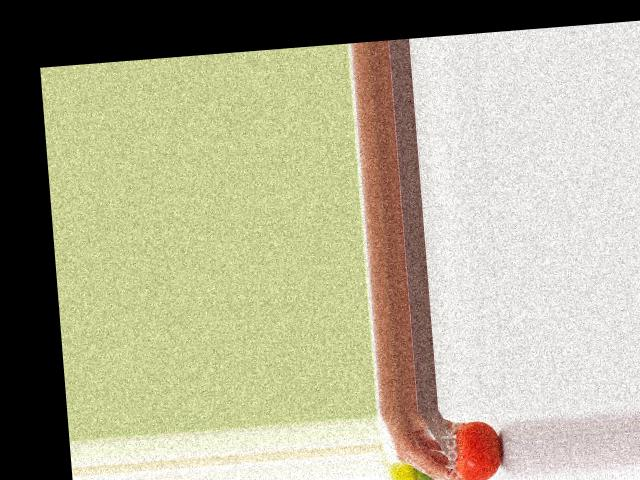tomato: (451, 418, 504, 480)
